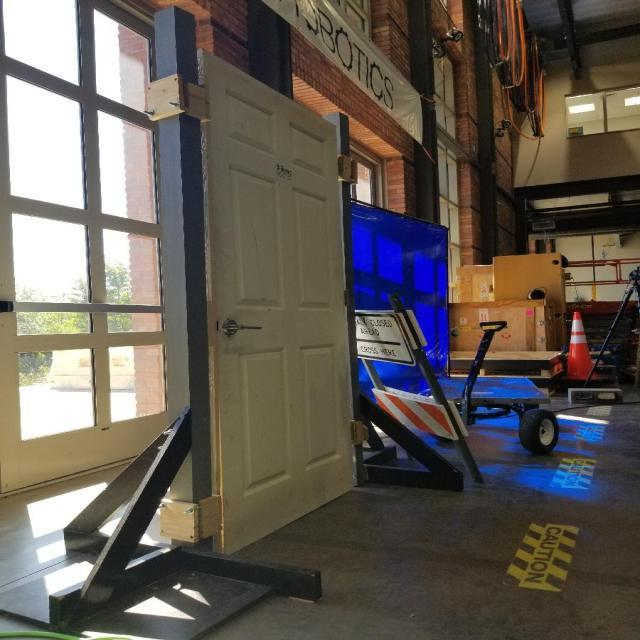door: (190, 44, 364, 561), (221, 318, 268, 337)
